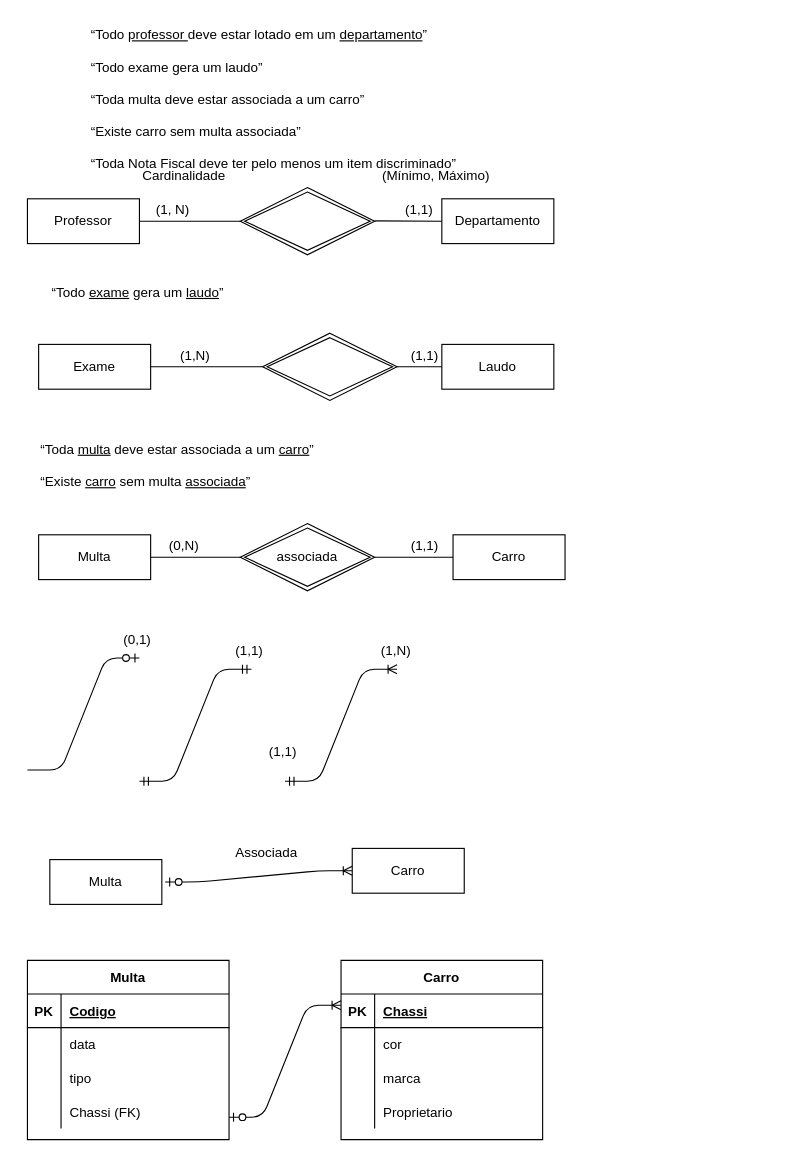
This 803x1159 diagram has some shape labels left out. The shapes that lost their labels are listed below. From the top down, each one's centre as x and y in pixels, then its label:
At (x=307, y=220): "Lotado".
At (x=329, y=366): "Gera".
